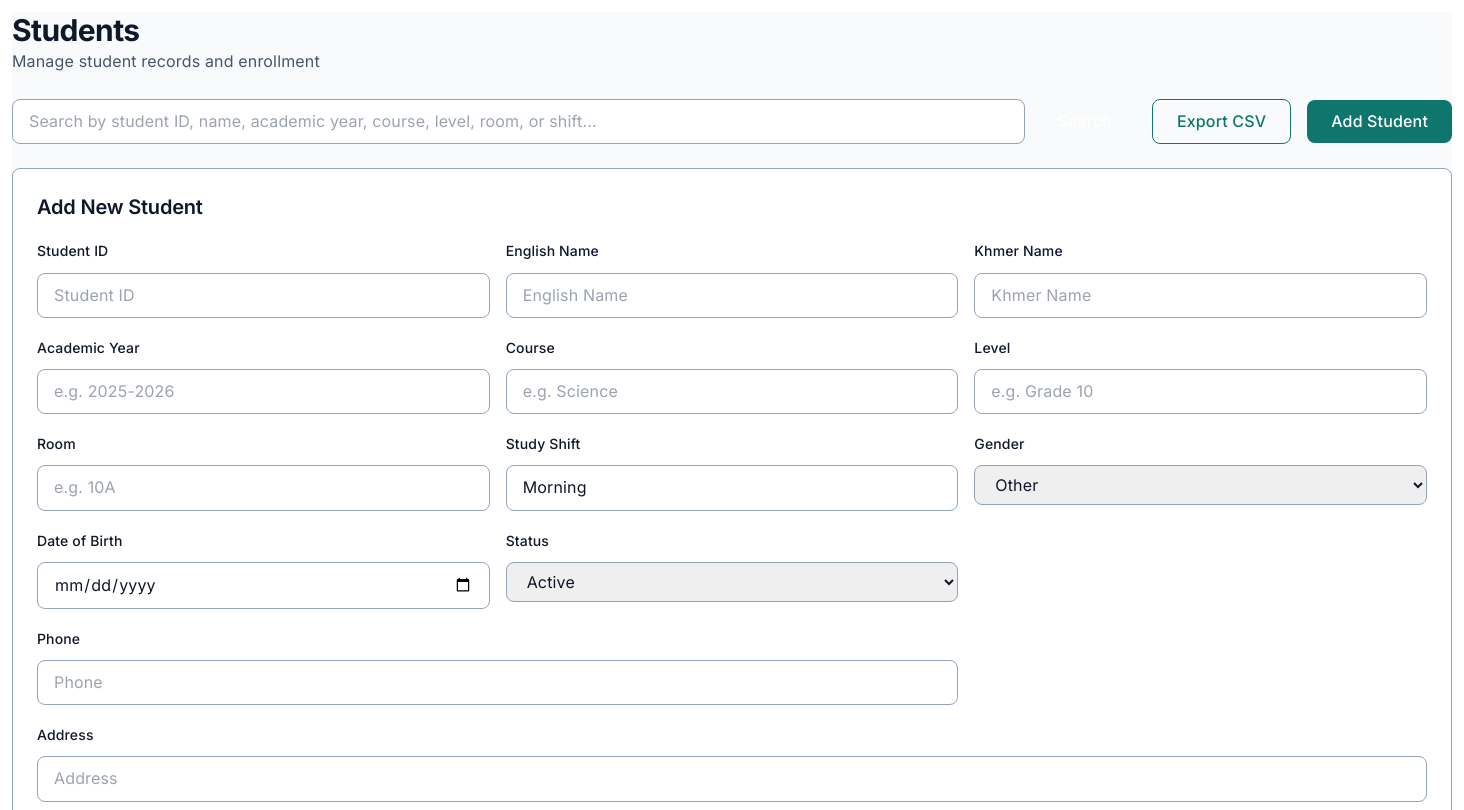
Student CSV export › does not download when no matching students exist
What coordinates should you click on to do the following:
click the button "Export CSV"
I would click on:
 (1222, 122)
Its box is [1152,99,1291,144].
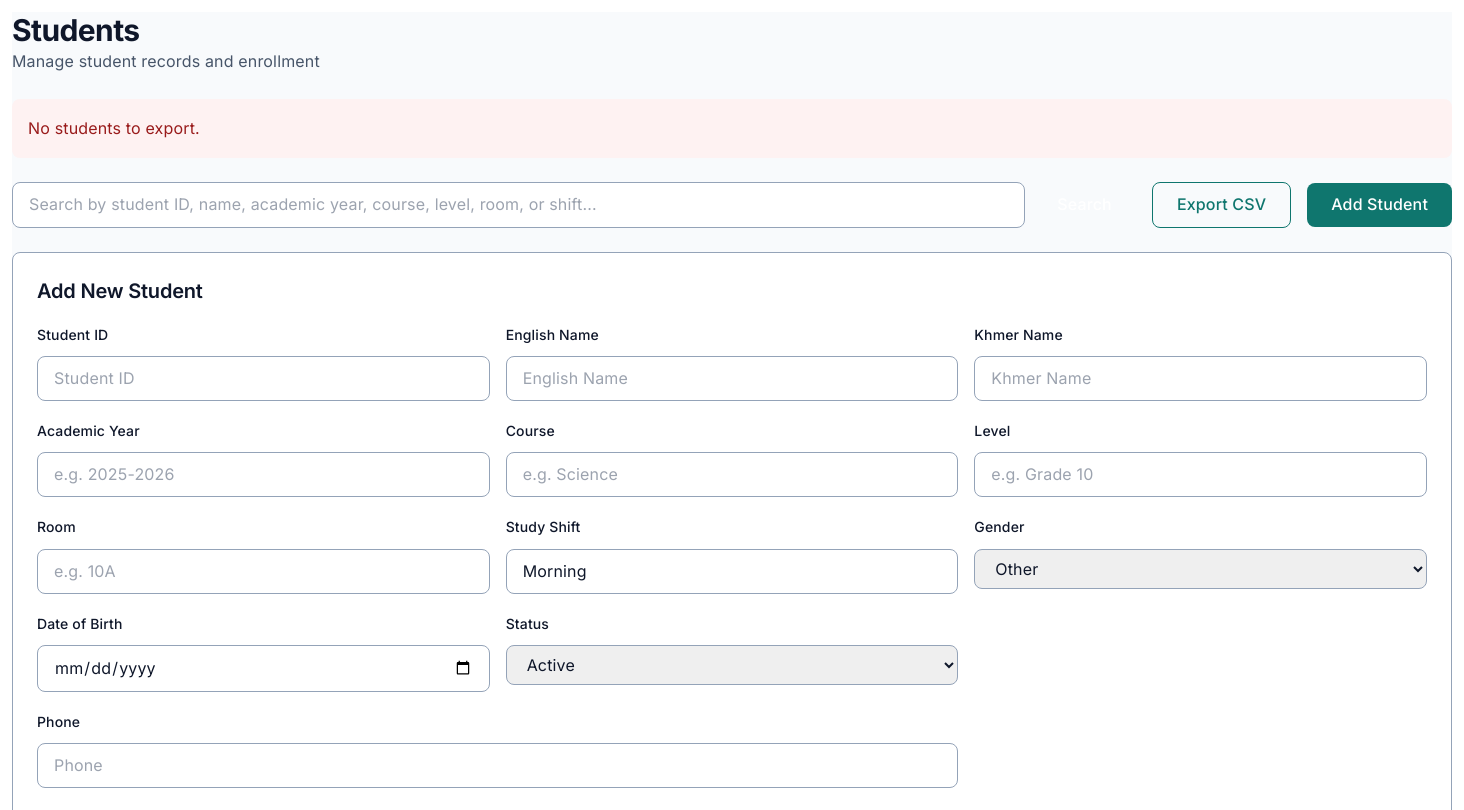
Check: the text "No students to export." is shown, box [12,99,1452,158]
